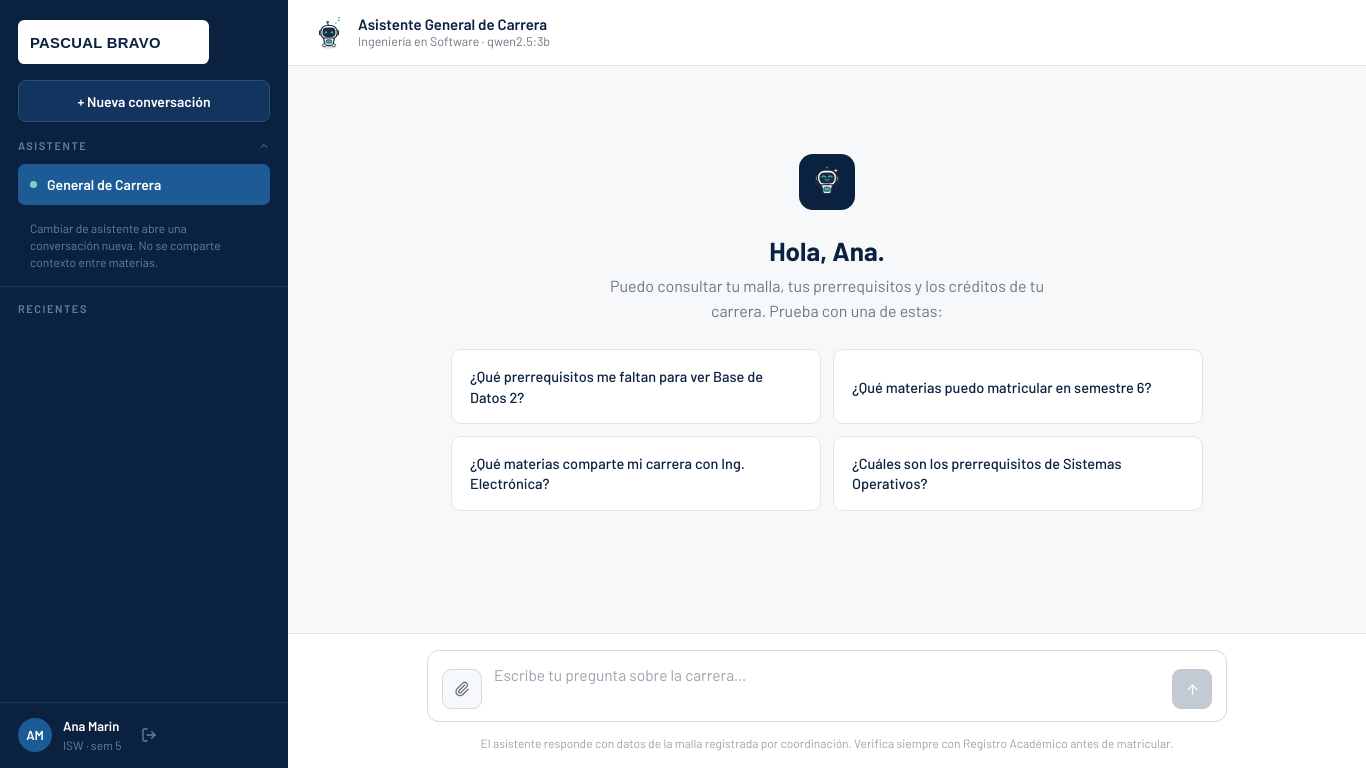
ChatShell › clicking a suggested question sends it immediately
Click the button "¿Qué materias puedo matricular en semestre 6?". click: (1018, 387)
box: [833,350,1203,424]
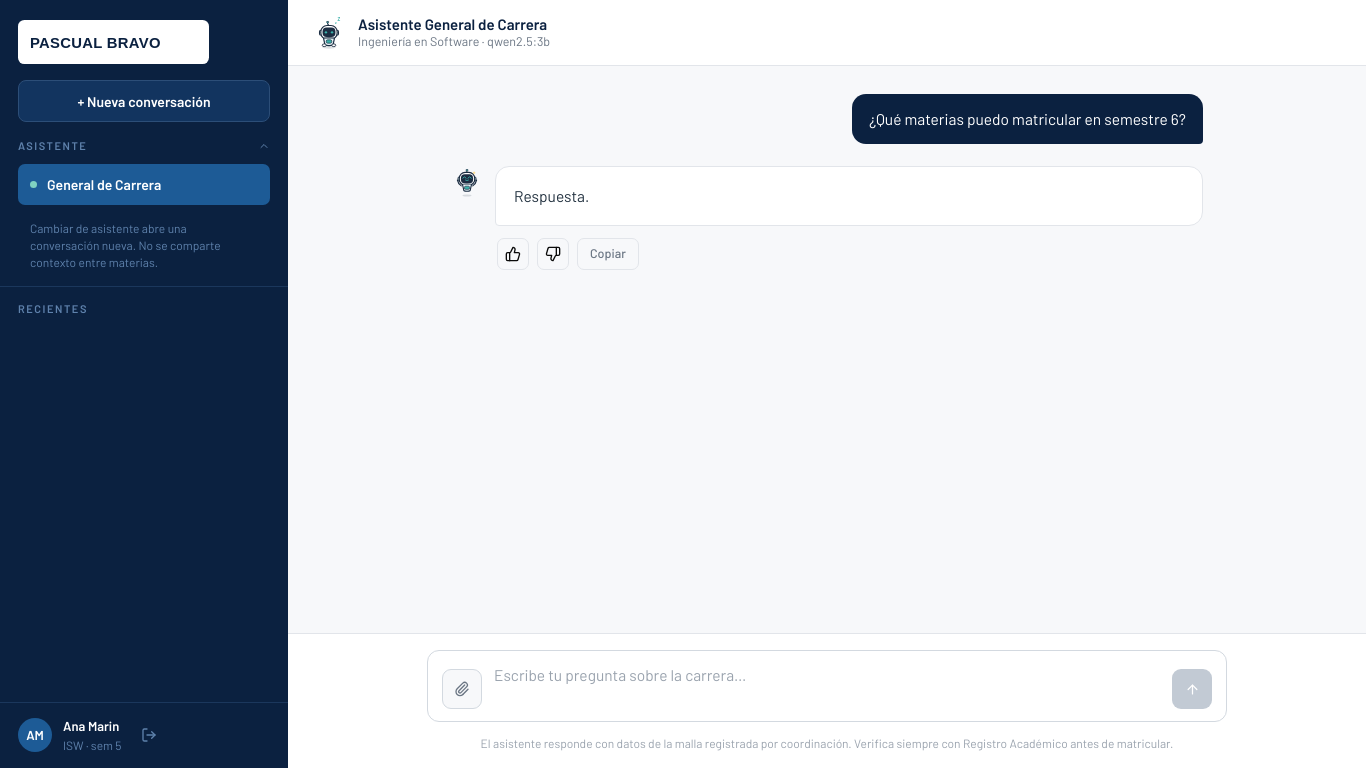
Check: the text "Respuesta." is shown, box [514,186,589,205]
